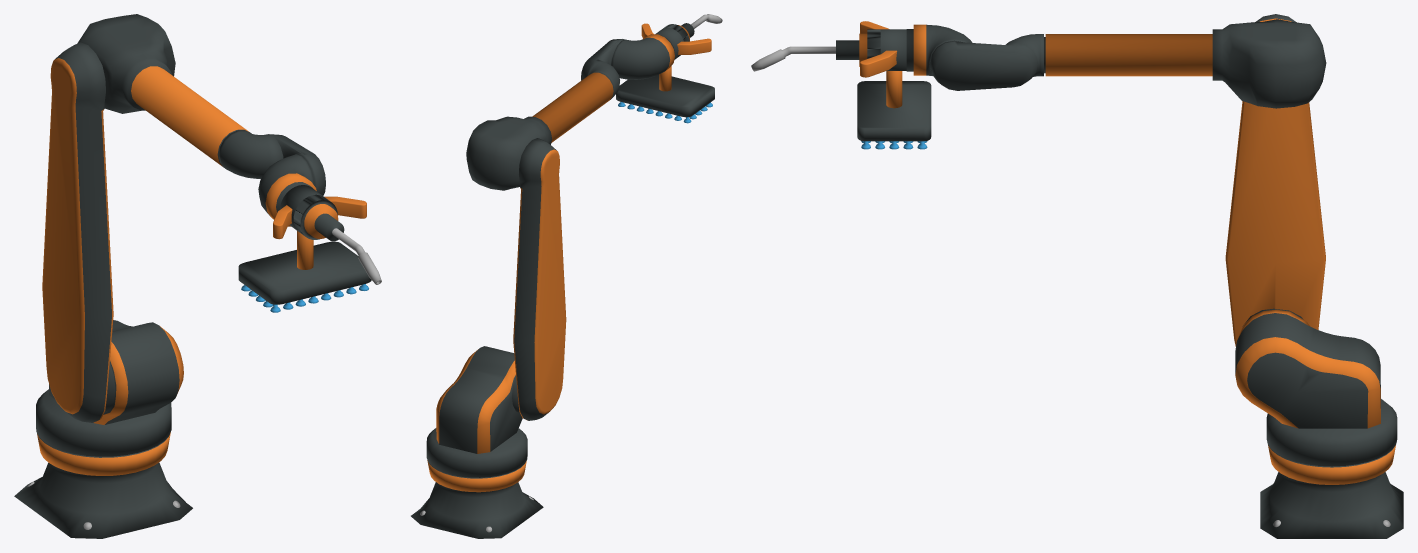
File: pick_arm.glb
The picture shows the model from 3 angles, left to right: view 1: azimuth 30°, elevation 25°; view 2: azimuth 150°, elevation 25°; view 3: azimuth 270°, elevation 25°; orthographic projection. The views are drawn at different scales.
Visible parts, largest first — view 1: Это база, Cube.001, Cube.002, Cylinder, Cube.003, Cylinder.001, Cylinder.002, Cube.005, Cube.006; view 2: Это база, Cube.001, Cube.002, Cylinder, Cube.003, Cylinder.001, Cube.006, Cylinder.002; view 3: Это база, Cube.001, Cube.002, Cube.003, Cylinder, Cylinder.001.
Part boxes in pixels (x1,y1,x2,y2): Это база: (14, 320, 192, 538); Cube.001: (42, 42, 113, 422); Cube.002: (77, 14, 249, 167); Cylinder: (238, 185, 371, 304); Cube.003: (218, 130, 325, 226); Cylinder.001: (293, 194, 381, 284); Cylinder.002: (241, 284, 368, 312); Cube.005: (324, 196, 366, 218); Cube.006: (273, 205, 292, 239); Это база: (411, 346, 543, 538); Cube.001: (513, 138, 566, 420); Cube.002: (466, 72, 613, 190); Cylinder: (616, 28, 714, 117); Cube.003: (581, 34, 674, 99); Cylinder.001: (663, 14, 722, 41); Cube.006: (677, 38, 711, 54); Cylinder.002: (618, 102, 712, 123); Это база: (1235, 308, 1403, 538); Cube.001: (1225, 14, 1325, 346); Cube.002: (1044, 19, 1326, 108); Cube.003: (906, 24, 1043, 90); Cylinder: (857, 29, 931, 141); Cylinder.001: (751, 29, 880, 71).
Bounding box in the file's own units: 0.7619 × 2.61 × 3.25.
